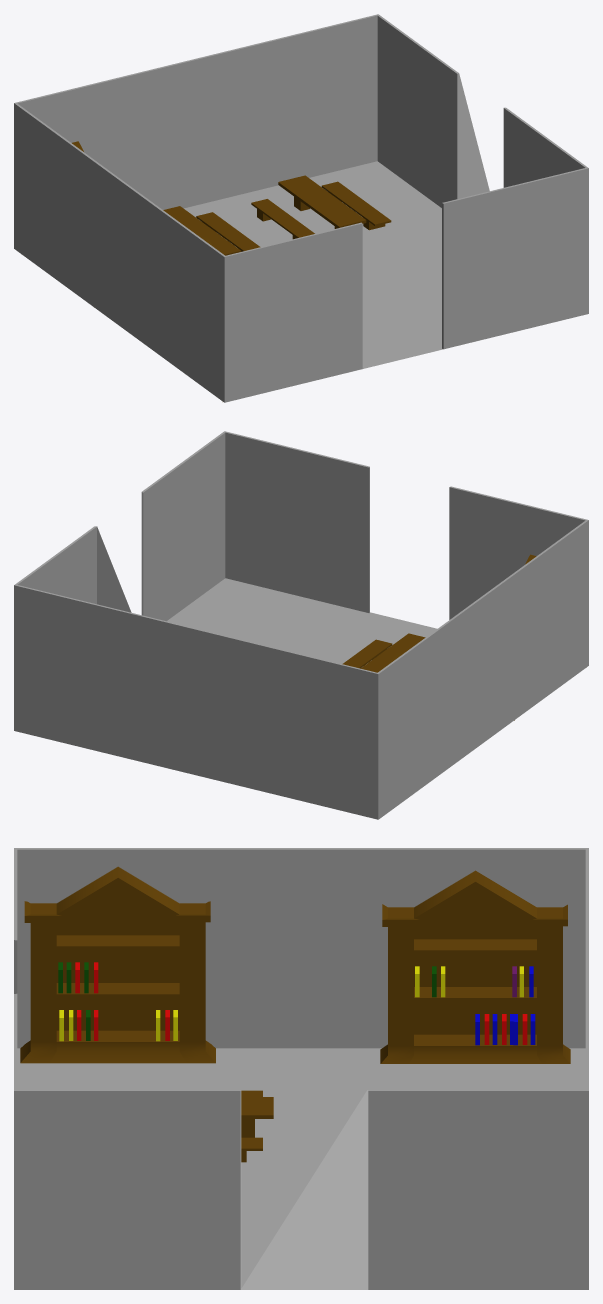
The model's file is coloured libary.fbx.
The picture shows the model from 3 angles, top to bottom: view 1: azimuth 30°, elevation 25°; view 2: azimuth 150°, elevation 25°; view 3: azimuth 270°, elevation 25°; orthographic projection. The views are drawn at different scales.
Visible parts, largest first — view 1: polySurface1645; view 2: polySurface1645; view 3: polySurface1645.
Boxes of the visible parts, bbox=[...] form: polySurface1645: bbox=[14, 14, 588, 402]; polySurface1645: bbox=[14, 431, 588, 819]; polySurface1645: bbox=[14, 848, 588, 1289].
Bounding box in the file's own units: 0.9711 × 0.3773 × 0.9716.
